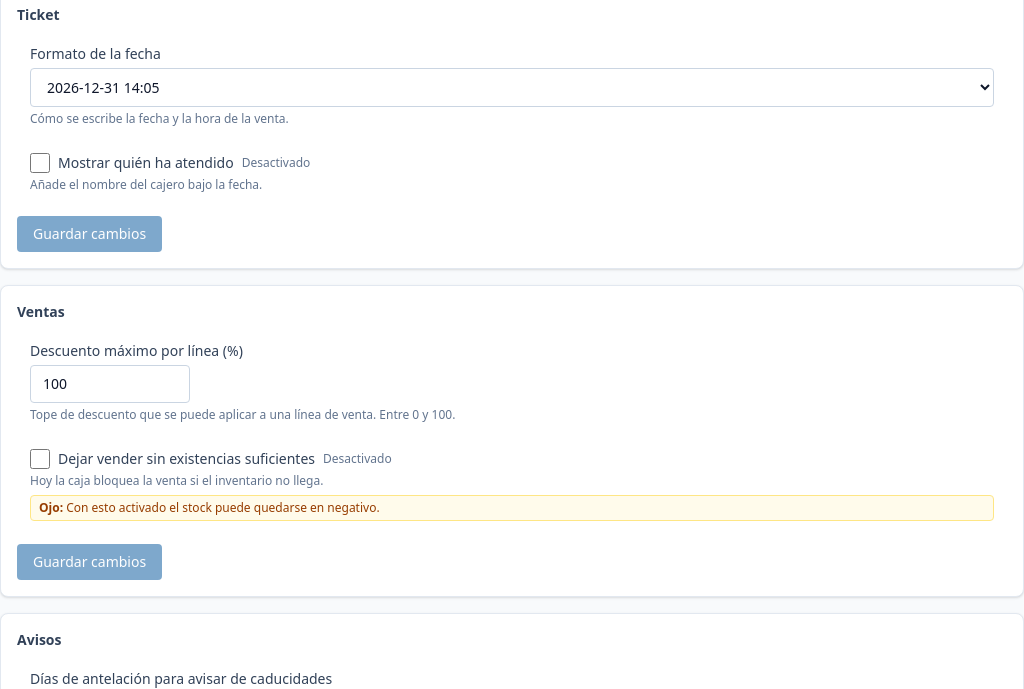
Test: SettingsPage — opciones del registro › shows the backend's 422 message next to the card it came from
(page scrolled)
Clear the field labelled "Descuento máximo por línea (%)": (110, 384) [30, 365, 190, 403]
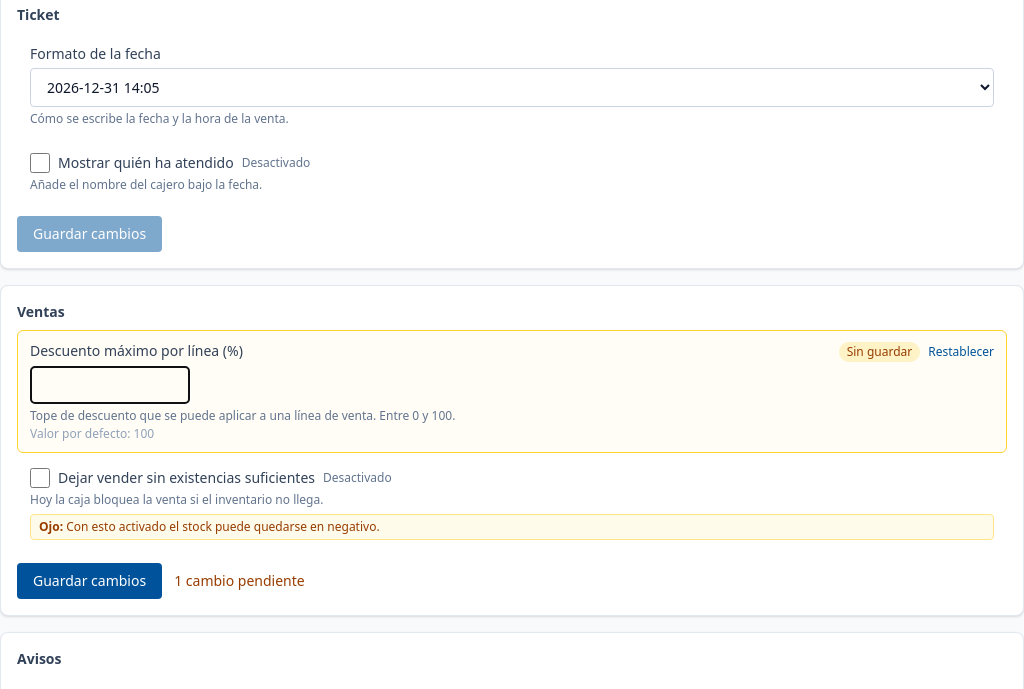
In the field labelled "Descuento máximo por línea (%)": (110, 385) [30, 366, 190, 404], type "150"
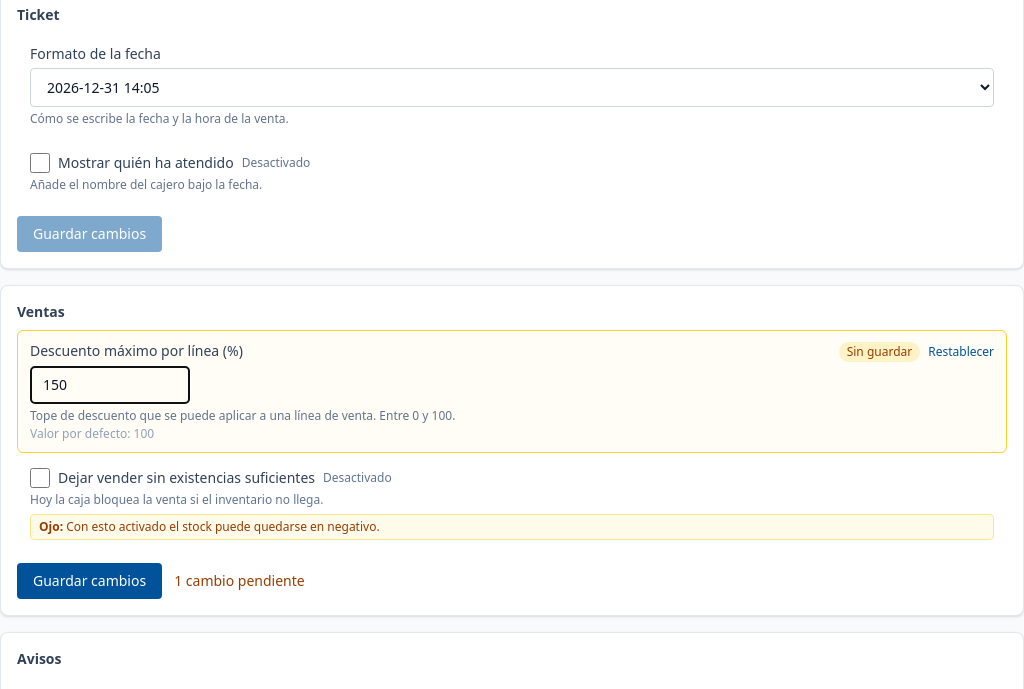
Click the button with aria-label "Guardar cambios de Ventas": (90, 581) [17, 563, 162, 599]
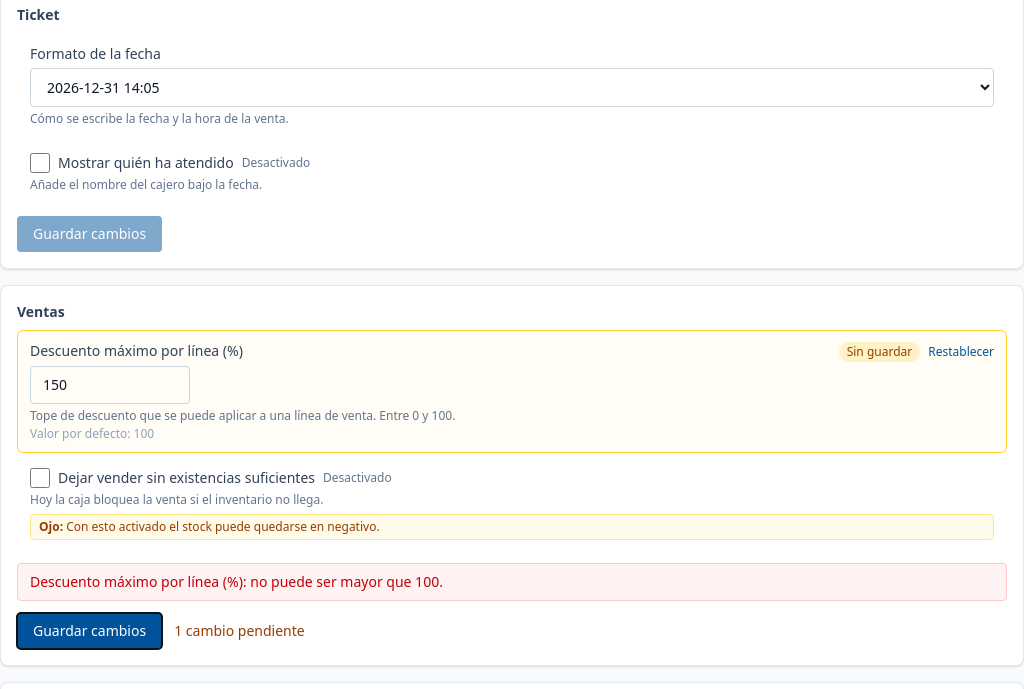
expect the text "Descuento máximo por línea (%): no puede ser mayor que 100." is shown: met, box [17, 563, 1007, 601]
